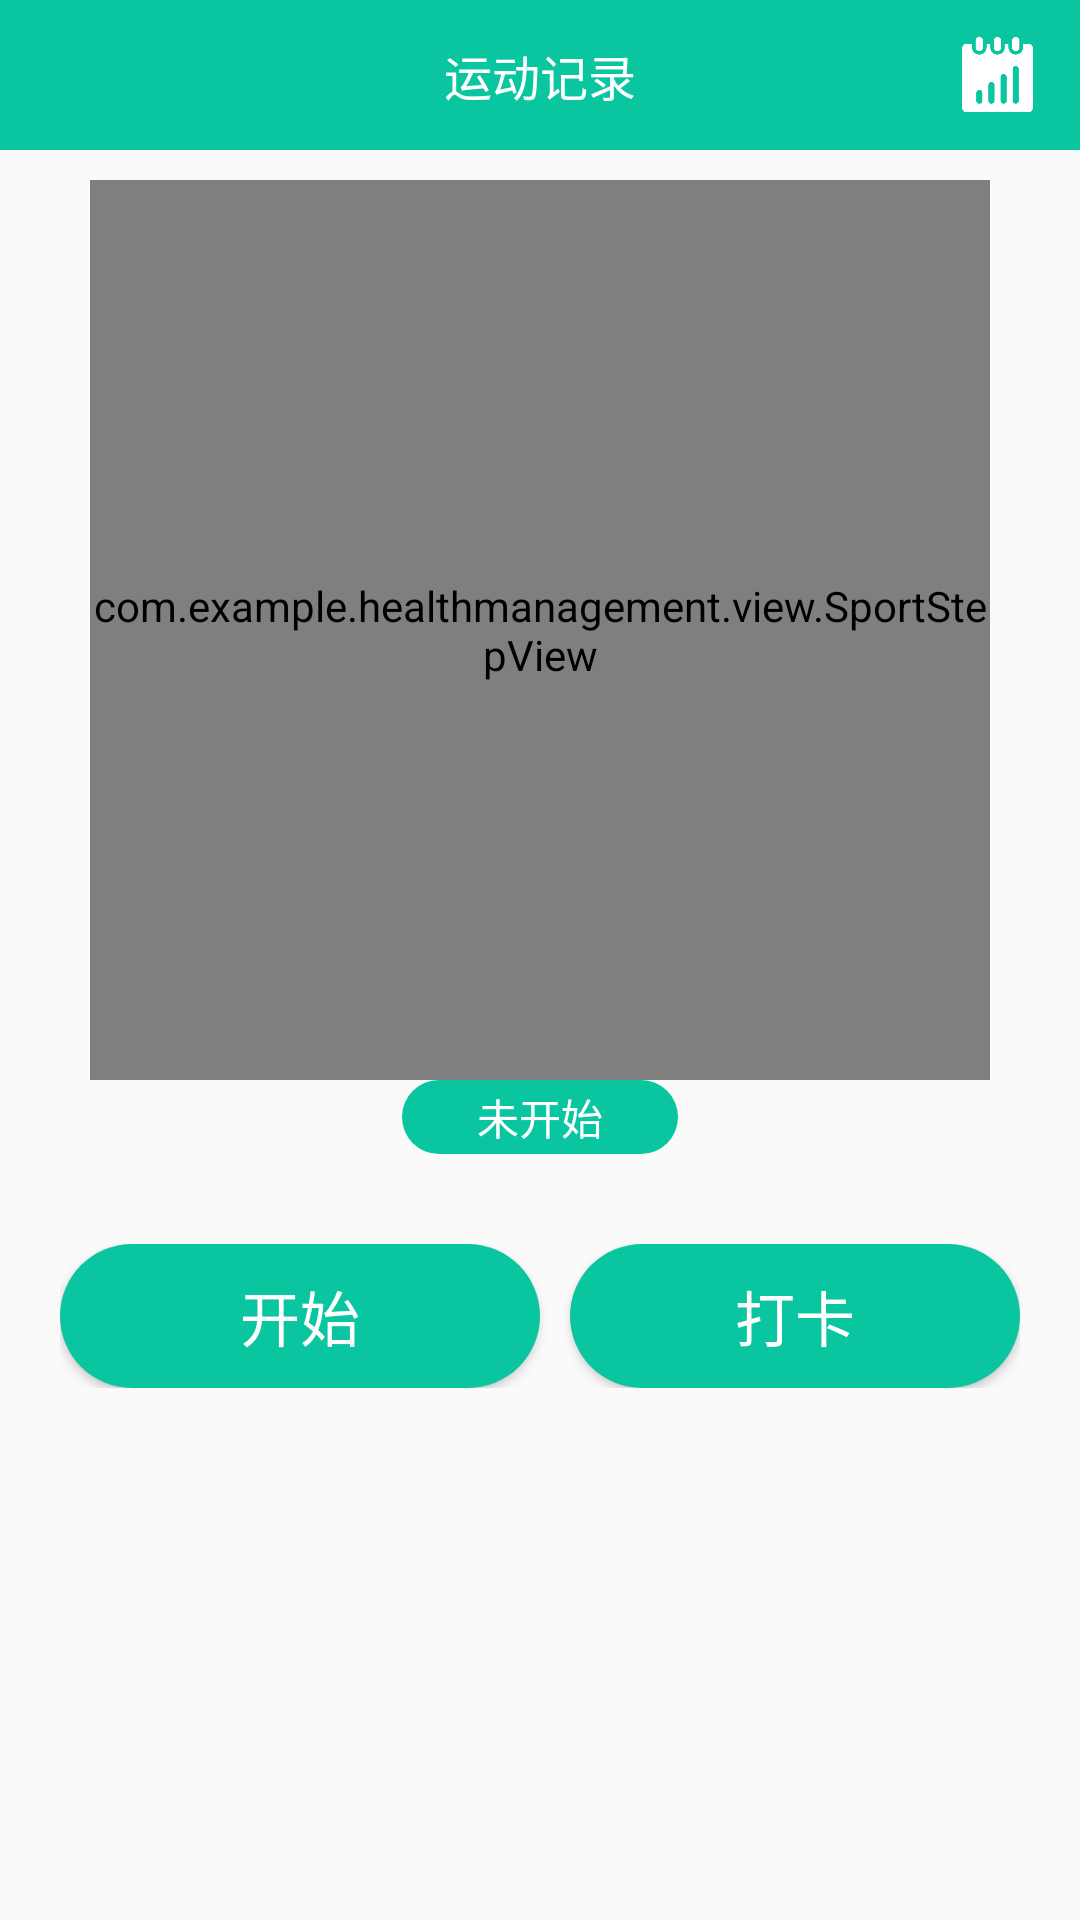

Point at icon controls on the screen. Image size 1080*1920, points as point (x, y).
record: point (997, 74)
